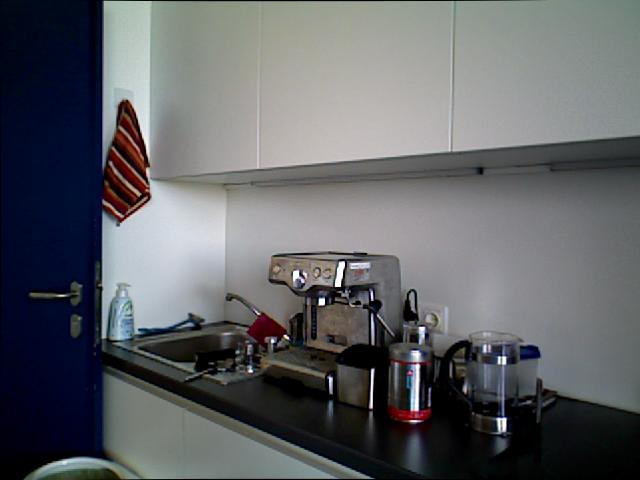bench: (104, 279, 140, 343)
couch: (136, 327, 260, 364)
handbag: (437, 323, 529, 442)
toilet: (183, 357, 236, 383)
